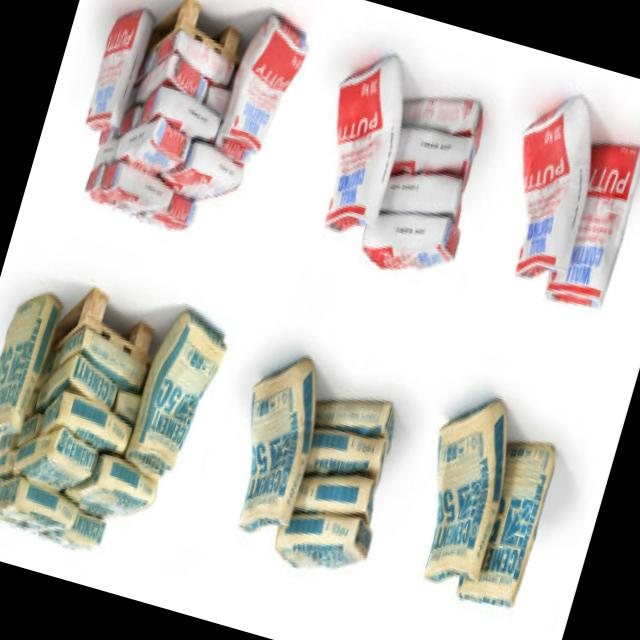KantongSemen: (0, 264, 234, 580), (56, 0, 313, 262), (292, 37, 508, 290), (205, 340, 418, 594), (390, 377, 573, 631), (479, 78, 640, 323)
